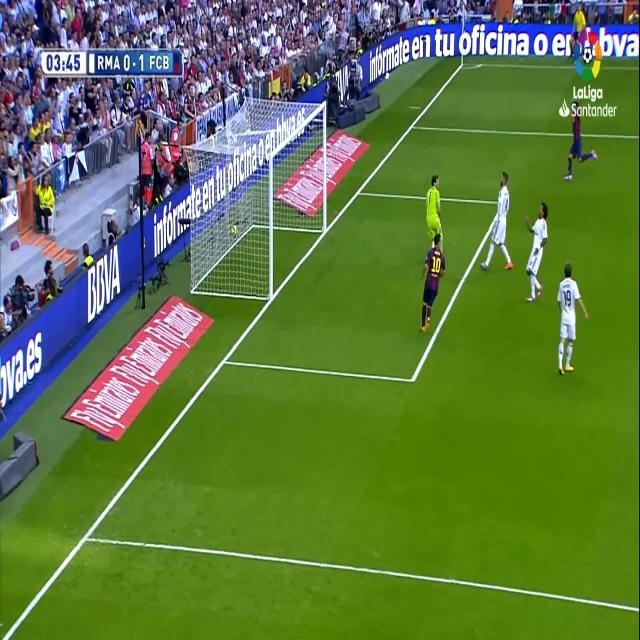bigarea_bottom_inner: (406, 363, 418, 393)
bottom_arc_area_intersection: (79, 523, 91, 552)
corner: (458, 59, 467, 72)
smallarea_bottom_outter: (217, 345, 230, 374)
smallarea_top_outter: (354, 182, 362, 201)
